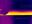Hotspot: (6, 11, 31, 15)
